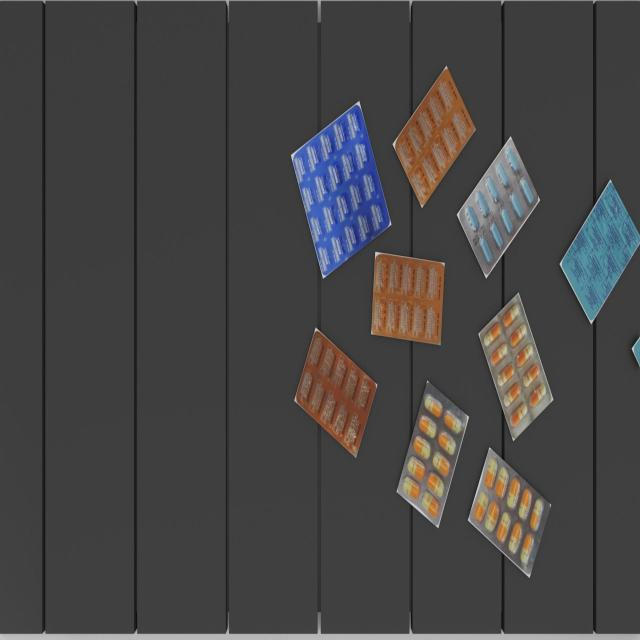blister: (288, 105, 391, 279), (391, 63, 475, 208), (476, 287, 554, 441), (290, 323, 378, 458), (468, 440, 552, 580), (562, 172, 639, 323), (460, 134, 538, 276), (396, 375, 468, 528), (371, 248, 446, 346)
